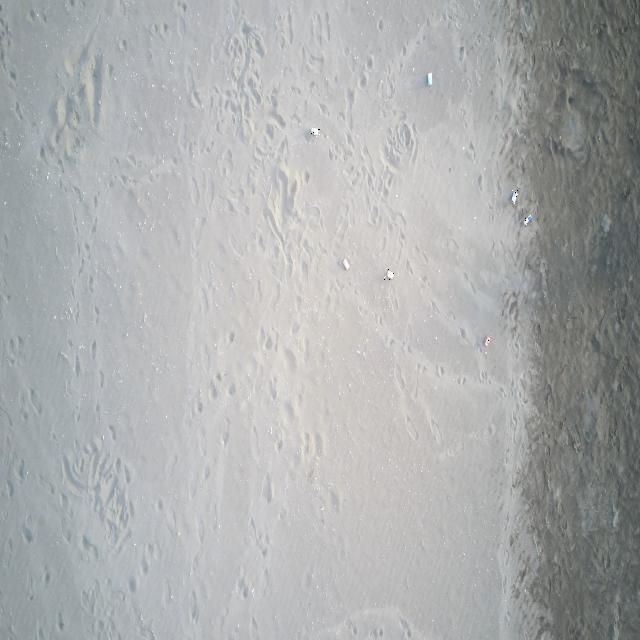Garbage: (384, 268, 393, 280), (523, 213, 532, 224), (511, 188, 517, 204), (308, 128, 319, 136), (343, 258, 350, 270), (426, 71, 432, 85), (484, 335, 489, 347)
